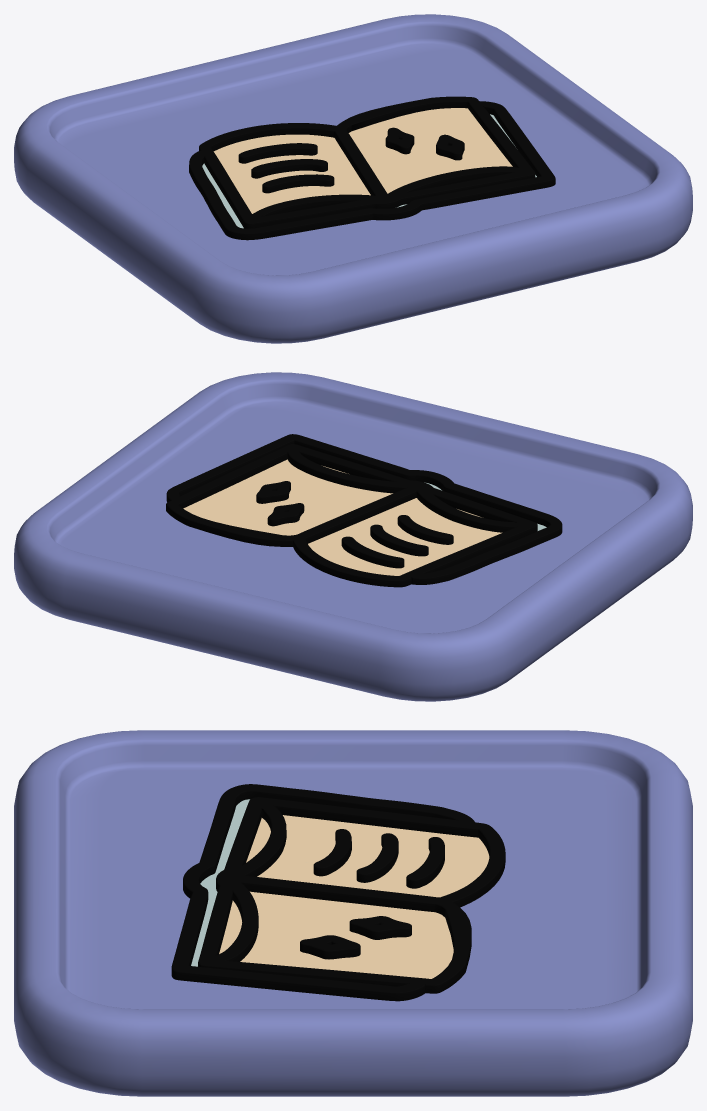
The model's file is book_tile.fbx.
3 renders of one model, top to bottom at view 1: azimuth 30°, elevation 25°; view 2: azimuth 150°, elevation 25°; view 3: azimuth 270°, elevation 25°, orthographic. The views are drawn at different scales.
Parts seen in each view (by area): view 1: book_cube, book_lines; view 2: book_cube, book_lines; view 3: book_cube, book_lines.
Boxes of the visible parts, x1,y1,x2,y2 form: book_cube: (14, 14, 692, 343); book_lines: (189, 96, 555, 240); book_cube: (14, 372, 692, 701); book_lines: (166, 434, 562, 587); book_cube: (14, 730, 692, 1096); book_lines: (171, 784, 505, 1001).
Bounding box in the file's own units: 1201 × 143 × 1128.
